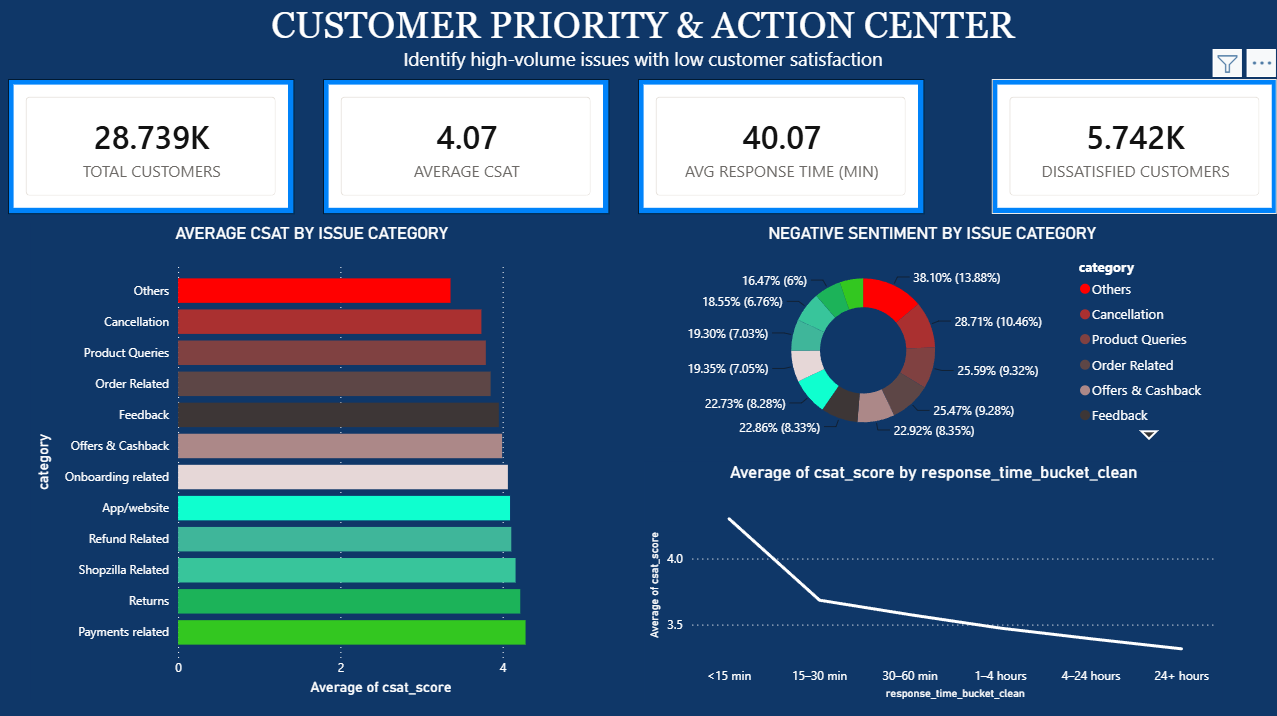

The page's visual inventory and layout, read from the dashboard file:
{"tool":"powerbi","page":{"name":"PRIORITY AND ACTION CENTER","canvas":[1280,720],"ordinal":1},"visuals":[{"type":"textbox","box":[10,0,1270,80],"z":0},{"type":"cardVisual","fields":{"Data":["Count(customer_support_sentiment_scored.unique_id)"]},"box":[10,80,286.2,135],"z":1000},{"type":"cardVisual","fields":{"Data":["Avg(customer_support_sentiment_scored.csat_score)"]},"box":[325,80,286.2,135],"z":2000},{"type":"cardVisual","fields":{"Data":["customer_support_sentiment_scored.Clean Average Response Time"]},"box":[640,80,286.2,135],"z":3000},{"type":"cardVisual","fields":{"Data":["Count(customer_support_sentiment_scored.unique_id)"]},"box":[993.8,80,286.2,135],"z":4000},{"type":"lineChart","fields":{"Category":["customer_support_sentiment_scored.response_time_bucket_clean"],"Y":["Avg(customer_support_sentiment_scored.csat_score)"]},"box":[646.2,462.5,578.8,242.5],"z":6000},{"type":"donutChart","title":"NEGATIVE SENTIMENT BY ISSUE CATEGORY","fields":{"Category":["customer_support_sentiment_scored.category"],"Y":["customer_support_sentiment_scored.Negative Sentiment %"]},"box":[645,223.8,578.8,225],"z":7000},{"type":"clusteredBarChart","title":"AVERAGE CSAT BY ISSUE CATEGORY","fields":{"Category":["customer_support_sentiment_scored.category"],"Y":["Avg(customer_support_sentiment_scored.csat_score)"]},"box":[32.5,223.8,562.5,477.5],"z":8000}]}

Visuals, with their boxes in screenshot pixels (x1, y1, x2, y2), scaled from the page's 1280x720 canvas onto the 1277x716 screenshot:
textbox: box=[10, 0, 1276, 80]
cardVisual - Count(customer_support_sentiment_scored.unique_id): box=[10, 80, 296, 214]
cardVisual - Avg(customer_support_sentiment_scored.csat_score): box=[324, 80, 610, 214]
cardVisual - customer_support_sentiment_scored.Clean Average Response Time: box=[638, 80, 924, 214]
cardVisual - Count(customer_support_sentiment_scored.unique_id): box=[991, 80, 1276, 214]
lineChart - customer_support_sentiment_scored.response_time_bucket_clean x Avg(customer_support_sentiment_scored.csat_score): box=[645, 460, 1222, 701]
"NEGATIVE SENTIMENT BY ISSUE CATEGORY" donutChart: box=[643, 223, 1221, 446]
"AVERAGE CSAT BY ISSUE CATEGORY" clusteredBarChart: box=[32, 223, 594, 697]
